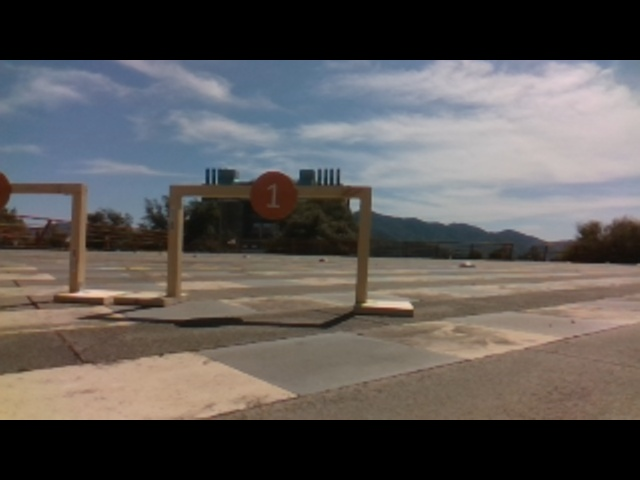checkpoint_foot: (52, 285, 117, 305), (115, 287, 180, 307), (353, 297, 417, 316)
checkpoint_side: (165, 179, 184, 293), (354, 182, 373, 296)
checkpoint_signal: (165, 181, 375, 202)
one: (250, 169, 298, 220)
